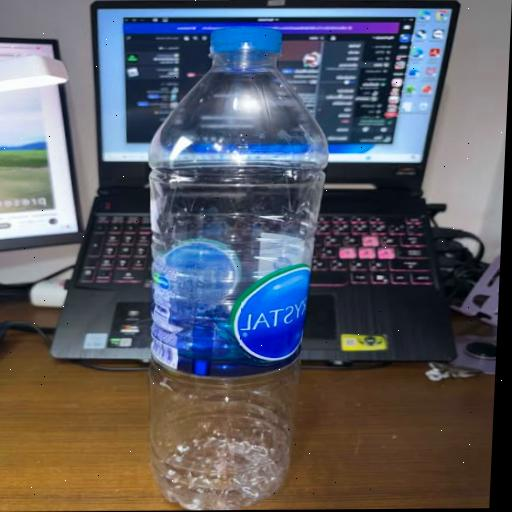bottle: (120, 18, 350, 511)
